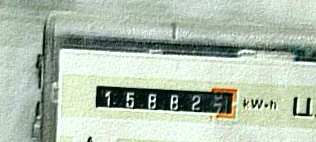1: (102, 88, 113, 107)
2: (189, 93, 202, 112)
5: (123, 91, 136, 109)
7: (211, 102, 223, 114)
8: (167, 92, 180, 111), (144, 92, 158, 109)
screen: (86, 74, 243, 127)
